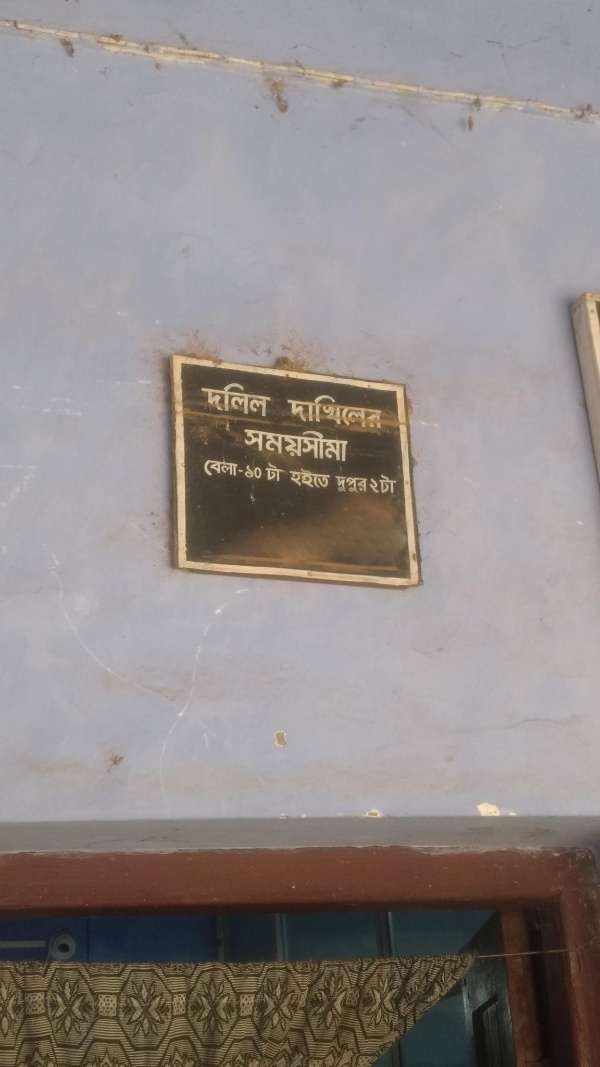text: (289, 388, 304, 434), (305, 388, 320, 434), (321, 388, 336, 434), (337, 388, 352, 434), (353, 388, 368, 434), (369, 388, 384, 434), (209, 377, 224, 422), (225, 377, 240, 422), (241, 377, 256, 422), (257, 377, 272, 422), (257, 423, 272, 467), (273, 423, 288, 467), (289, 423, 304, 467), (305, 423, 320, 467), (321, 423, 336, 467), (244, 423, 256, 467), (337, 423, 349, 467), (200, 377, 208, 422), (289, 467, 304, 489), (305, 467, 320, 489), (385, 474, 399, 495), (209, 459, 224, 478), (225, 459, 240, 478), (337, 476, 352, 494), (353, 476, 368, 494), (321, 467, 333, 489), (273, 463, 285, 482), (371, 478, 384, 494), (284, 388, 288, 434), (246, 466, 256, 480), (379, 474, 384, 495), (257, 466, 264, 480), (267, 463, 272, 482), (241, 459, 245, 478), (206, 459, 208, 478)
